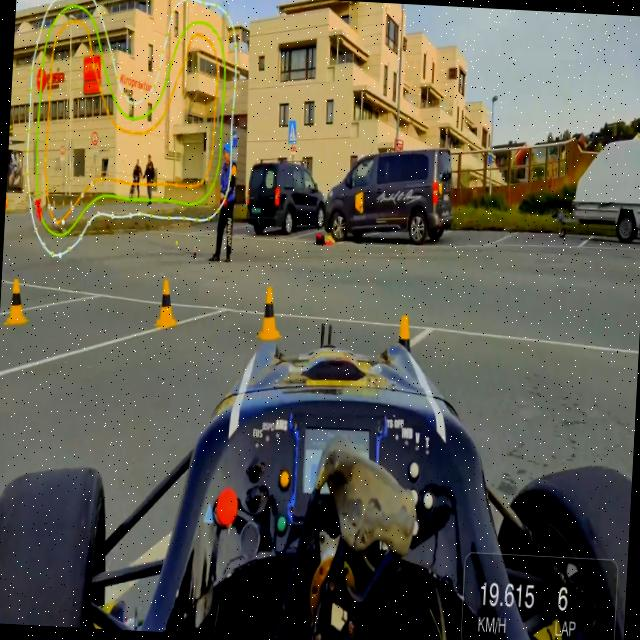yellow_cone: (152, 268, 178, 332), (392, 308, 422, 359), (7, 268, 30, 334), (259, 283, 283, 344)
